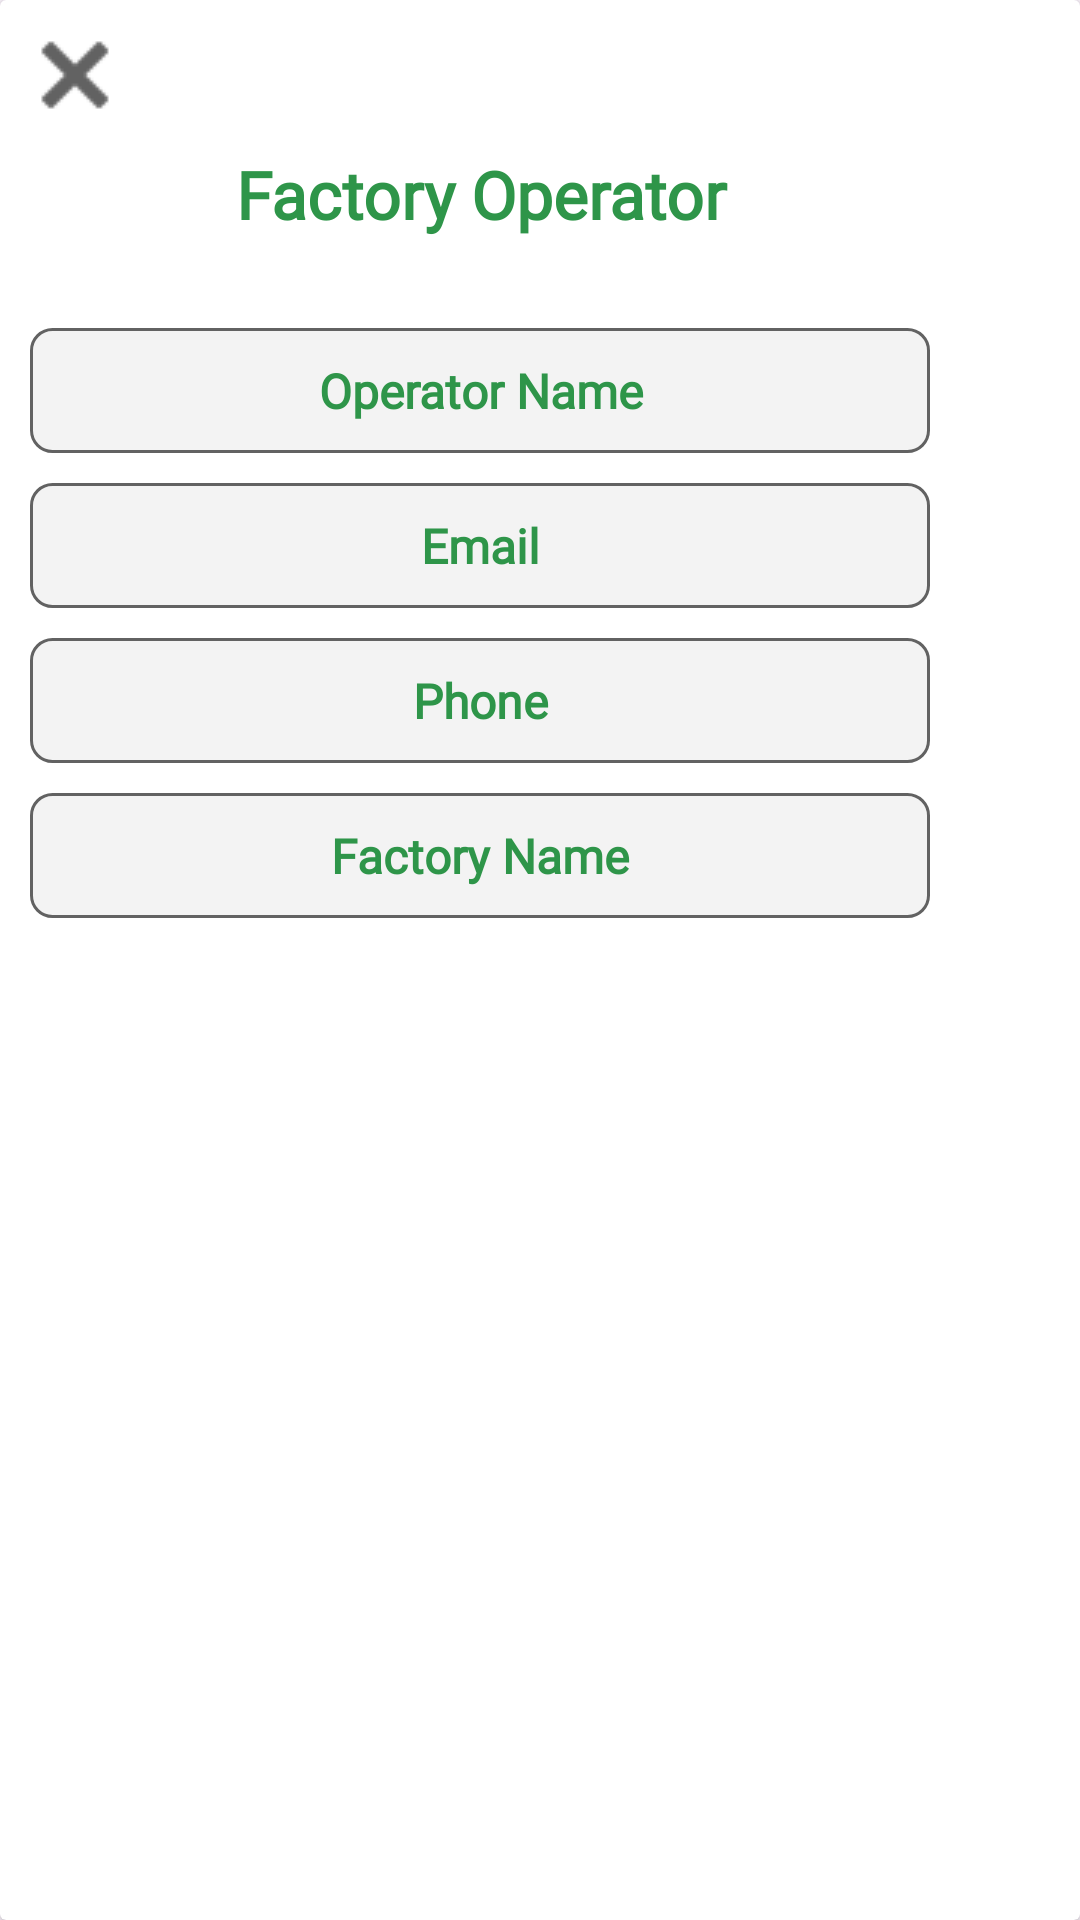

Locate icon controls on the screen. Image size 1080px×1920px, boxes as (x1, y1, x2, y2).
close: (41, 41, 109, 109)
